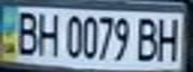0: (63, 11, 84, 60), (81, 11, 100, 61)
7: (96, 12, 115, 61)
9: (112, 14, 133, 62)
B: (9, 8, 42, 56), (133, 15, 163, 62)
H: (154, 14, 184, 62), (33, 9, 60, 56)
